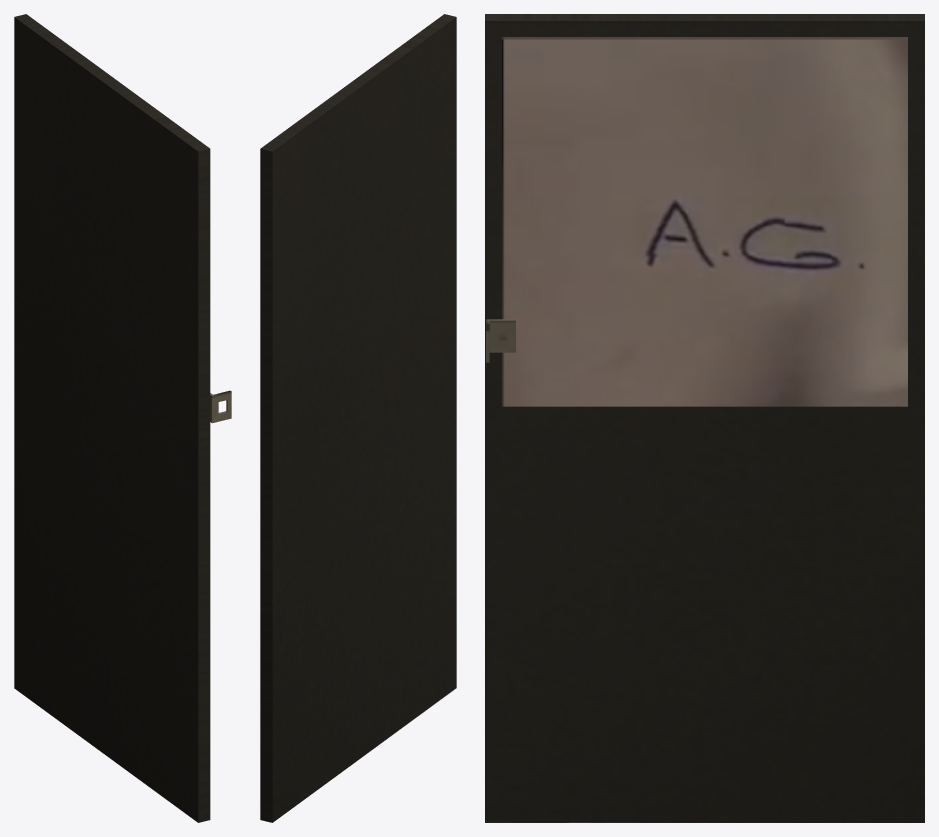
File: ag_door.fbx
The picture shows the model from 3 angles, left to right: view 1: azimuth 30°, elevation 25°; view 2: azimuth 150°, elevation 25°; view 3: azimuth 270°, elevation 25°; orthographic projection. The views are drawn at different scales.
Parts seen in each view (by area): view 1: kapi_trafo.002; view 2: kapi_trafo.002; view 3: kapi_trafo.002.
Part boxes in pixels (x1,y1,x2,y2): kapi_trafo.002: [14, 14, 231, 822]; kapi_trafo.002: [260, 14, 456, 822]; kapi_trafo.002: [485, 14, 924, 822].
Size of the model in its own units: 28.18 by 532 by 264.
2 materials, 2 textured.
